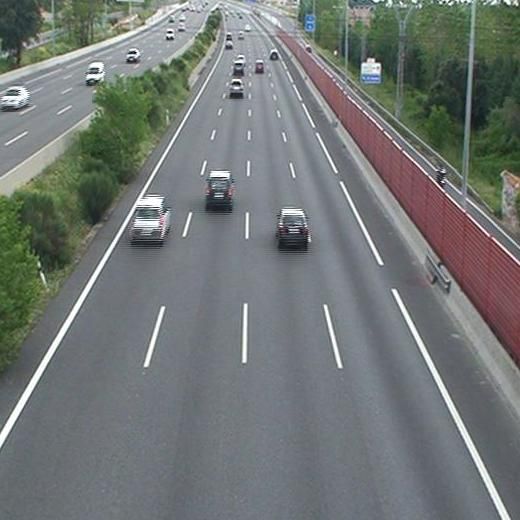car: (131, 198, 170, 239), (277, 210, 308, 245), (206, 173, 232, 206), (230, 78, 243, 93), (233, 61, 244, 74), (269, 49, 278, 61), (224, 40, 233, 50), (255, 61, 263, 71)
